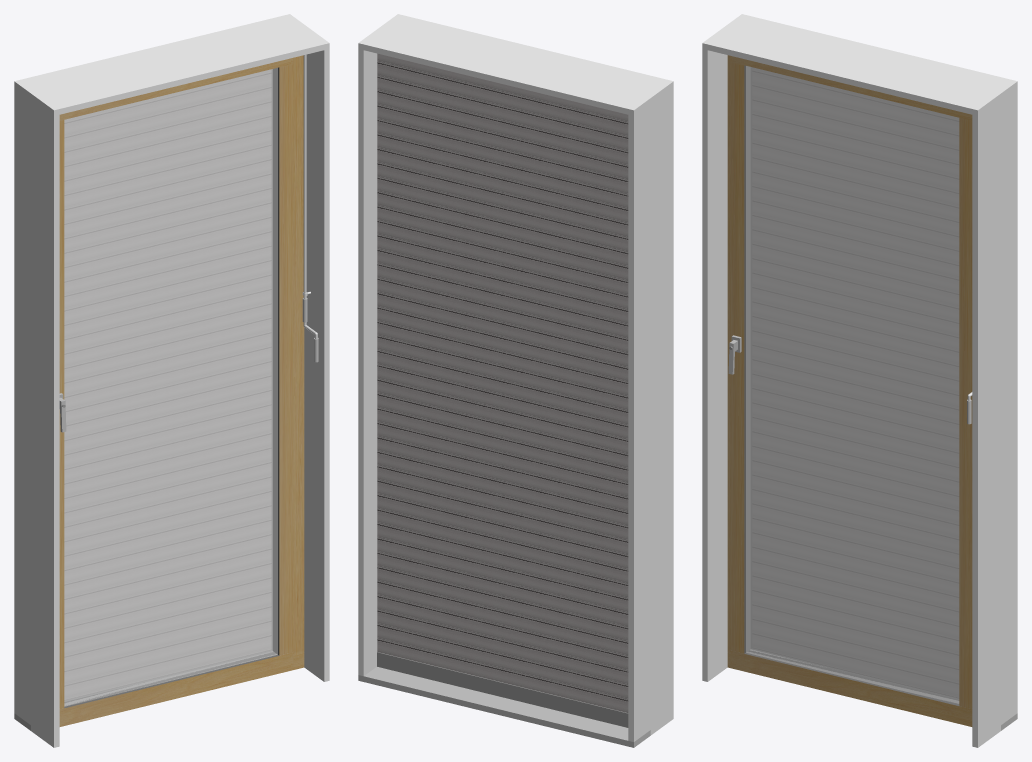
Rendered from sweethome3d-contributions-french-window-501.glb.
3 views of the same model, side by side, from view 1: azimuth 30°, elevation 25°; view 2: azimuth 150°, elevation 25°; view 3: azimuth 330°, elevation 25° (orthographic).
Visible parts, largest first — view 1: sweethome3d_opening_on_hinge_1_Window_Pane_wall_1_1_1_25_153, sweethome3d_opening_on_rail_1_Roller_Shutter_Foot_back_119_1, 46, sweethome3d_opening_on_hinge_1_Inside_Inner_Frame_top_74_104, sweethome3d_rail_1_Outside_Walls_back_179_188, 6, sweethome3d_opening_on_hinge_1_Outside_Inner_Frame_top_56_12, sweethome3d_opening_on_hinge_2_Roller_Shutter_Crank_Cylinde.; view 2: sweethome3d_opening_on_rail_1_Roller_Shutter_Foot_back_119_1, sweethome3d_rail_1_Outside_Walls_back_179_188, 46, 58; view 3: sweethome3d_opening_on_hinge_1_Window_Pane_wall_1_1_1_25_153, sweethome3d_opening_on_rail_1_Roller_Shutter_Foot_back_119_1, 46, sweethome3d_opening_on_hinge_1_Inside_Inner_Frame_top_74_104, sweethome3d_rail_1_Outside_Walls_back_179_188, sweethome3d_opening_on_hinge_1_Outside_Inner_Frame_top_56_12, 6.
Boxes of the visible parts, box(x1,y1,x2,y2) form: sweethome3d_opening_on_hinge_1_Window_Pane_wall_1_1_1_25_153: box(64, 68, 277, 706); sweethome3d_opening_on_rail_1_Roller_Shutter_Foot_back_119_1: box(64, 70, 271, 699); 46: box(31, 28, 329, 747); sweethome3d_opening_on_hinge_1_Inside_Inner_Frame_top_74_104: box(59, 58, 293, 723); sweethome3d_rail_1_Outside_Walls_back_179_188: box(14, 14, 309, 724); 6: box(59, 55, 304, 726); sweethome3d_opening_on_hinge_1_Outside_Inner_Frame_top_56_12: box(64, 67, 279, 708); sweethome3d_opening_on_hinge_2_Roller_Shutter_Crank_Cylinde.: box(302, 54, 318, 362); sweethome3d_opening_on_rail_1_Roller_Shutter_Foot_back_119_1: box(377, 53, 628, 727); sweethome3d_rail_1_Outside_Walls_back_179_188: box(358, 28, 653, 741); 46: box(378, 14, 673, 735); 58: box(358, 667, 650, 747); sweethome3d_opening_on_hinge_1_Window_Pane_wall_1_1_1_25_153: box(746, 66, 959, 704); sweethome3d_opening_on_rail_1_Roller_Shutter_Foot_back_119_1: box(752, 68, 958, 697); 46: box(702, 28, 1000, 747); sweethome3d_opening_on_hinge_1_Inside_Inner_Frame_top_74_104: box(730, 56, 972, 723); sweethome3d_rail_1_Outside_Walls_back_179_188: box(722, 14, 1017, 724); sweethome3d_opening_on_hinge_1_Outside_Inner_Frame_top_56_12: box(744, 65, 959, 705); 6: box(727, 55, 972, 726).
Bounding box in the file's own units: 100 × 221 × 25.
Materials: 17 (3 with a texture image).
